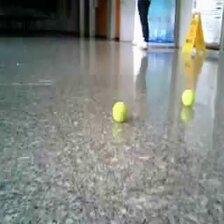tennis: (111, 101, 128, 122), (182, 89, 195, 106)
